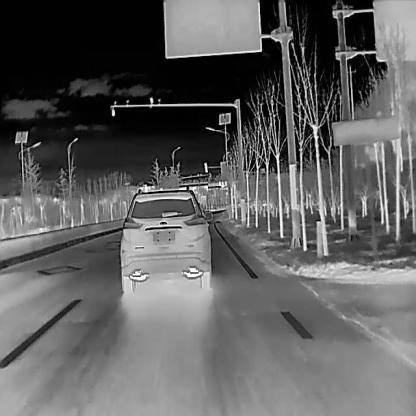car: (119, 187, 213, 293)
